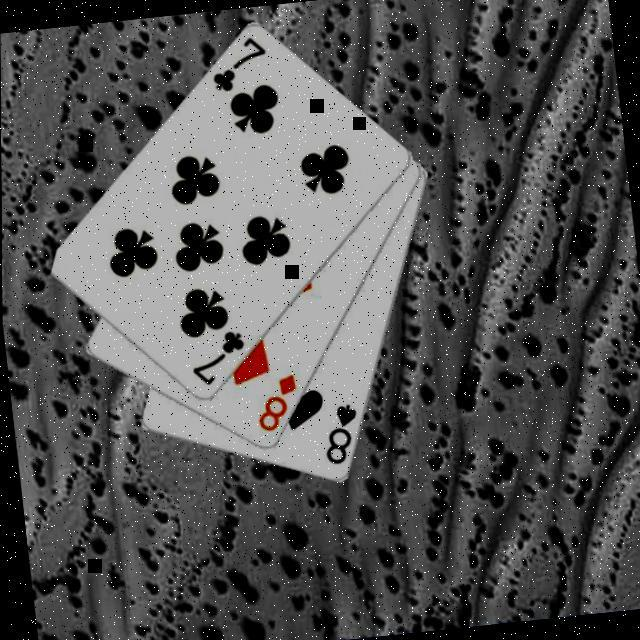7C: (181, 324, 249, 388), (202, 30, 270, 94)
8D: (248, 368, 302, 435)
8S: (314, 398, 363, 468)
